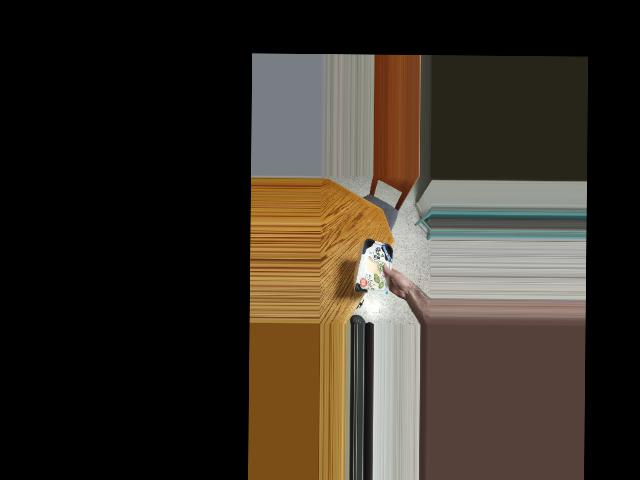cheese: (354, 244, 398, 284)
